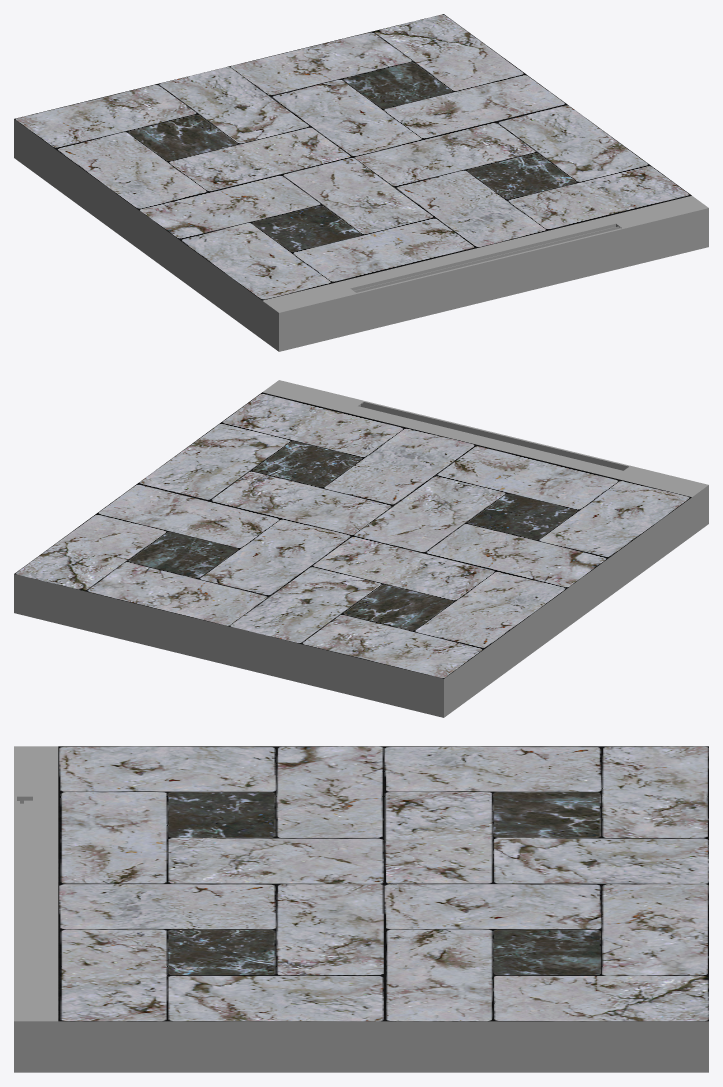
File: ElevatorFloor.fbx
3 views of the same model, one above another, from view 1: azimuth 30°, elevation 25°; view 2: azimuth 150°, elevation 25°; view 3: azimuth 270°, elevation 25° (orthographic). The views are drawn at different scales.
Parts seen in each view (by area): view 1: pCube23; view 2: pCube23; view 3: pCube23.
Boxes of the visible parts, <box> form: pCube23: <box>14,14,708,351</box>; pCube23: <box>14,380,708,717</box>; pCube23: <box>14,746,708,1072</box>.
Size of the model in its own units: 20.03 by 1.74 by 21.39.
2 materials, 1 textured.
